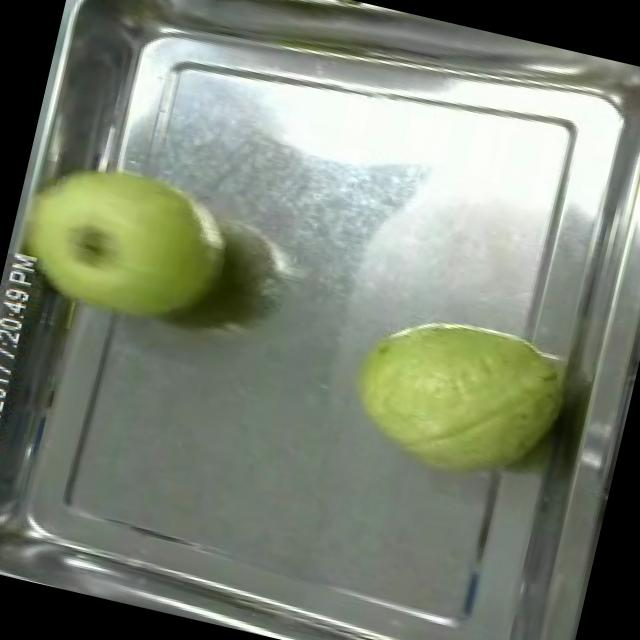Fruit: (327, 288, 586, 508), (1, 134, 252, 351)
